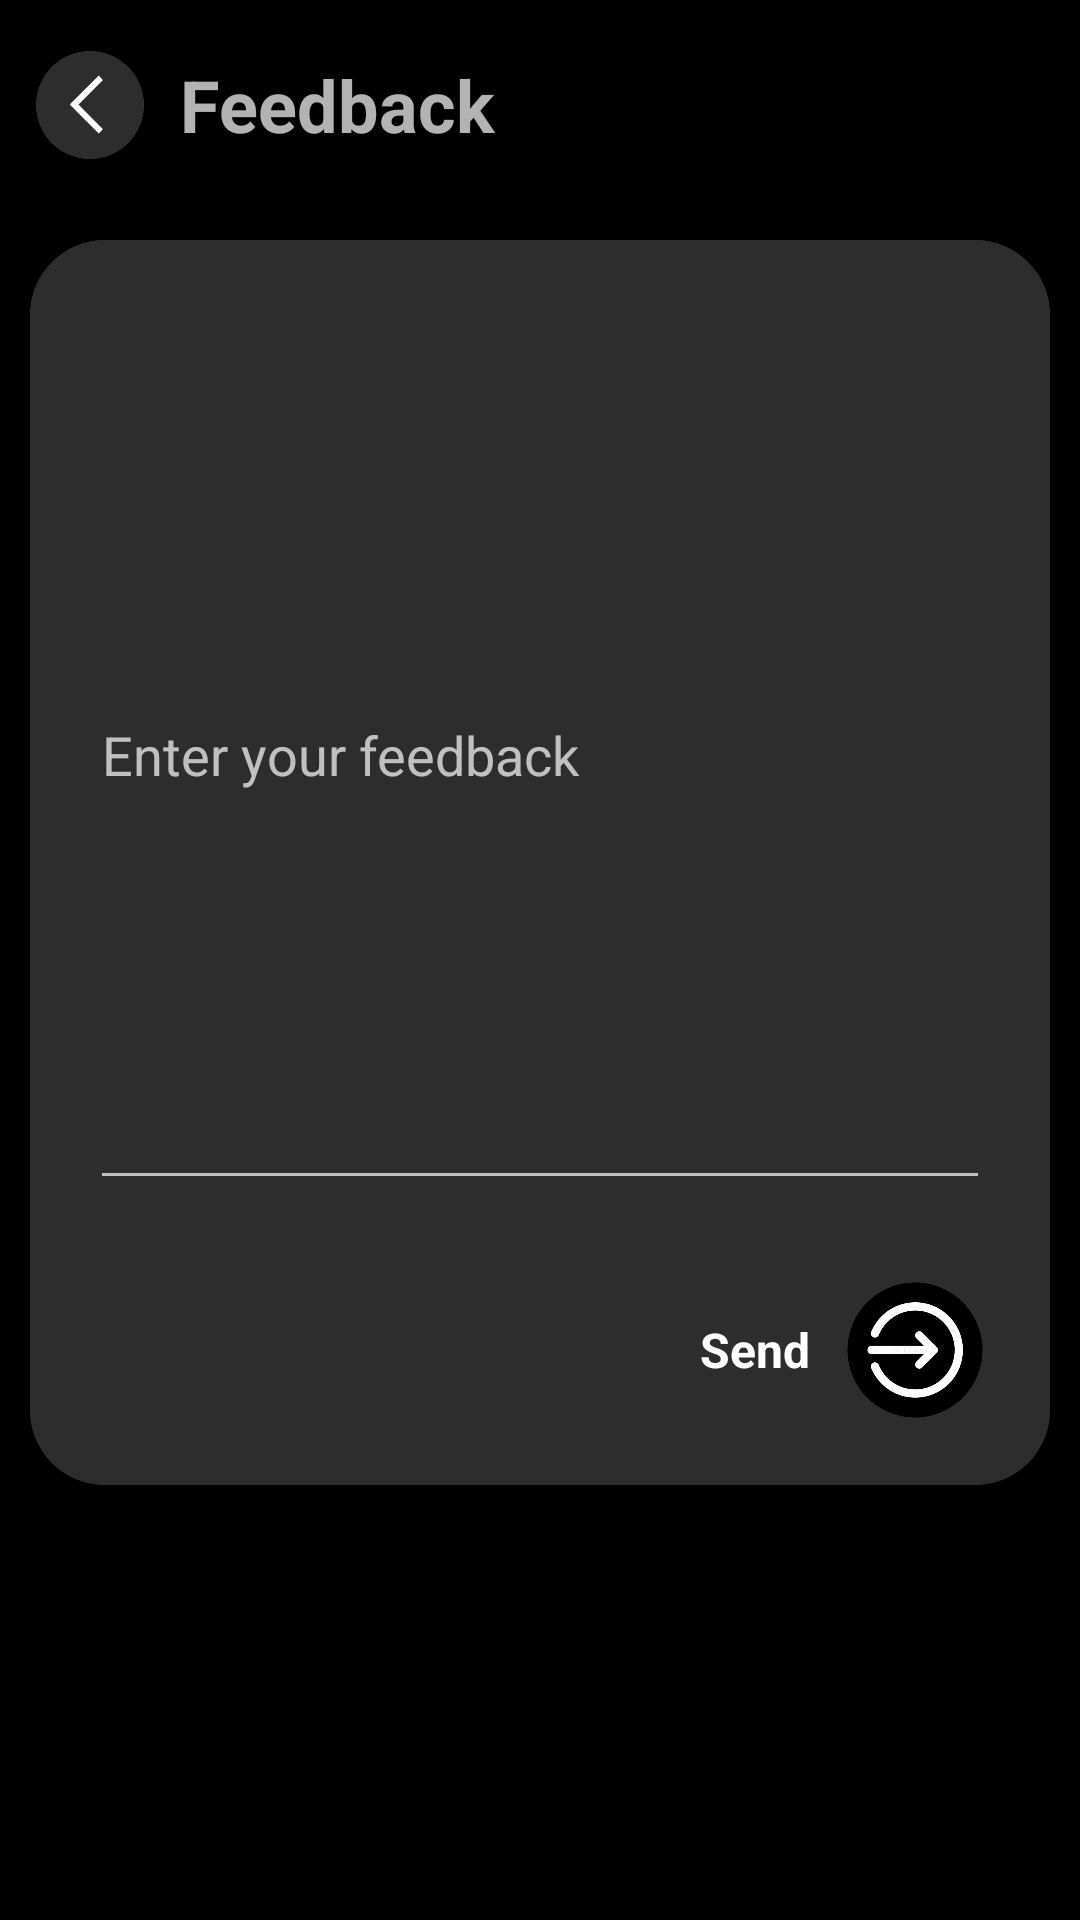

Named icons in this screenshot (1080 x 1920) and their centers, point (x, y):
login: point (915, 1350)
